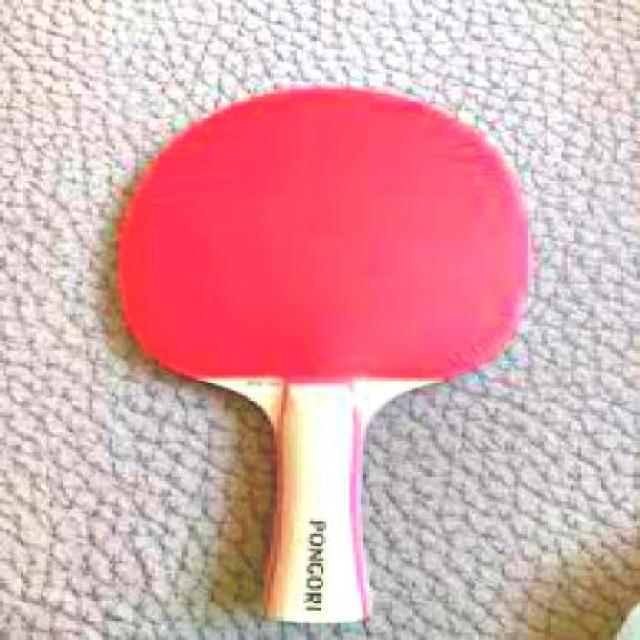table_tennis_racket: (115, 86, 534, 628)
